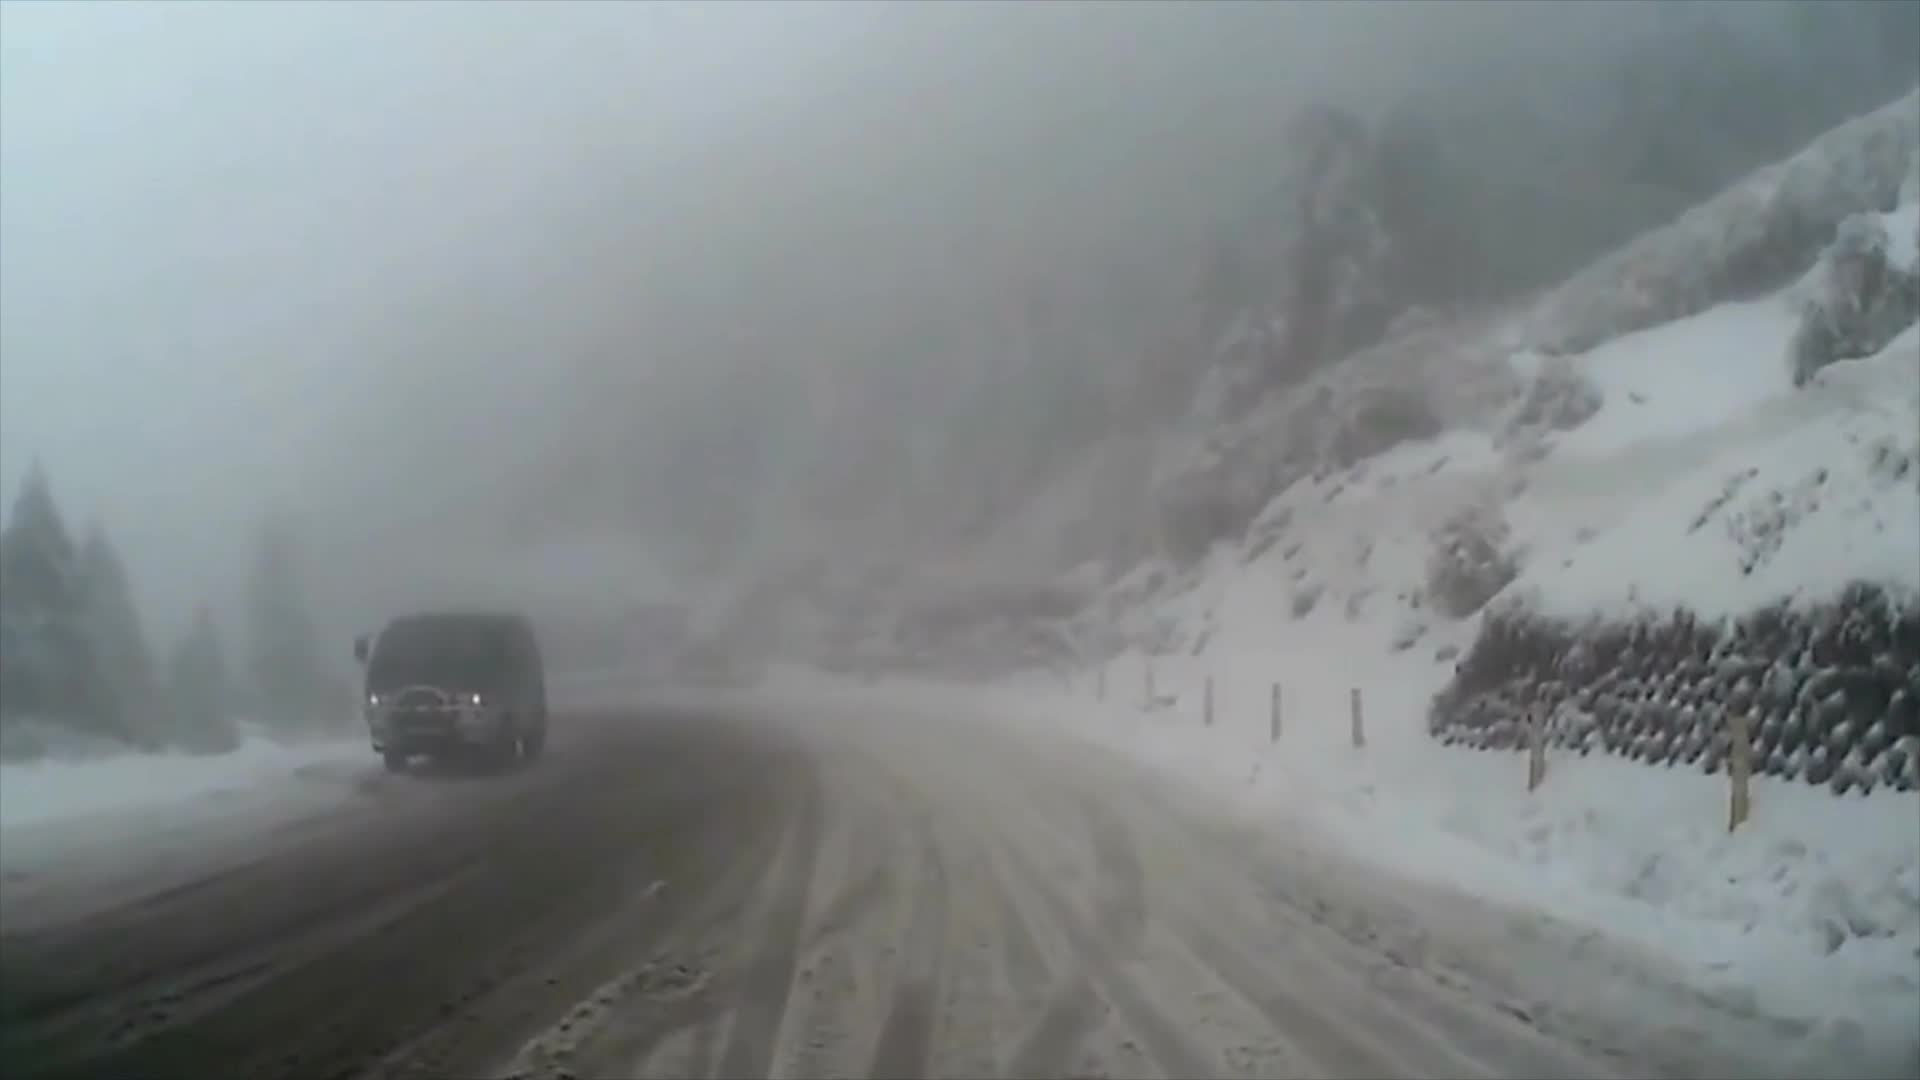vehicle: (349, 608, 547, 771)
